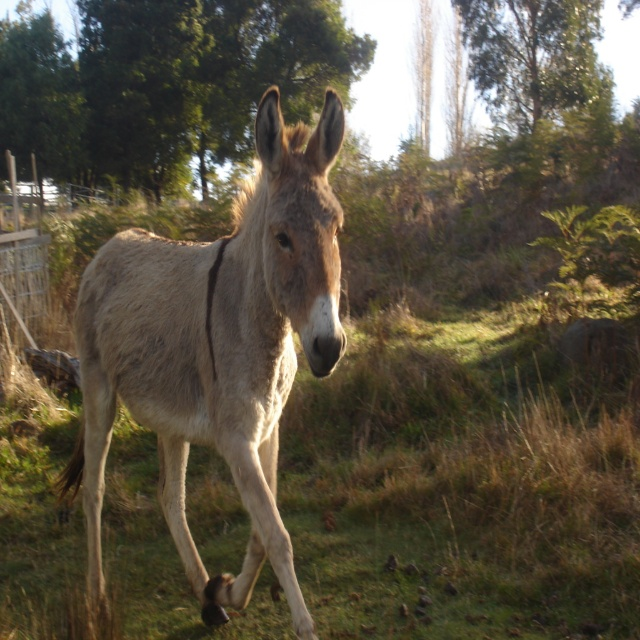Mule: (53, 84, 346, 639)
